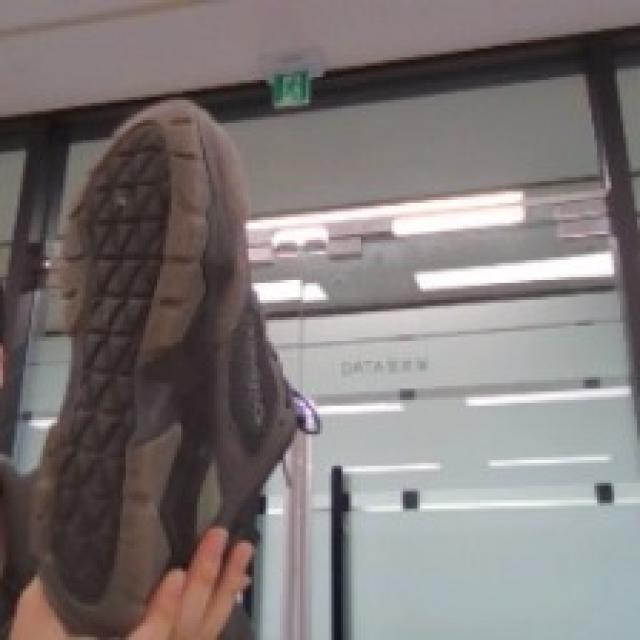shoe: (24, 62, 342, 637)
